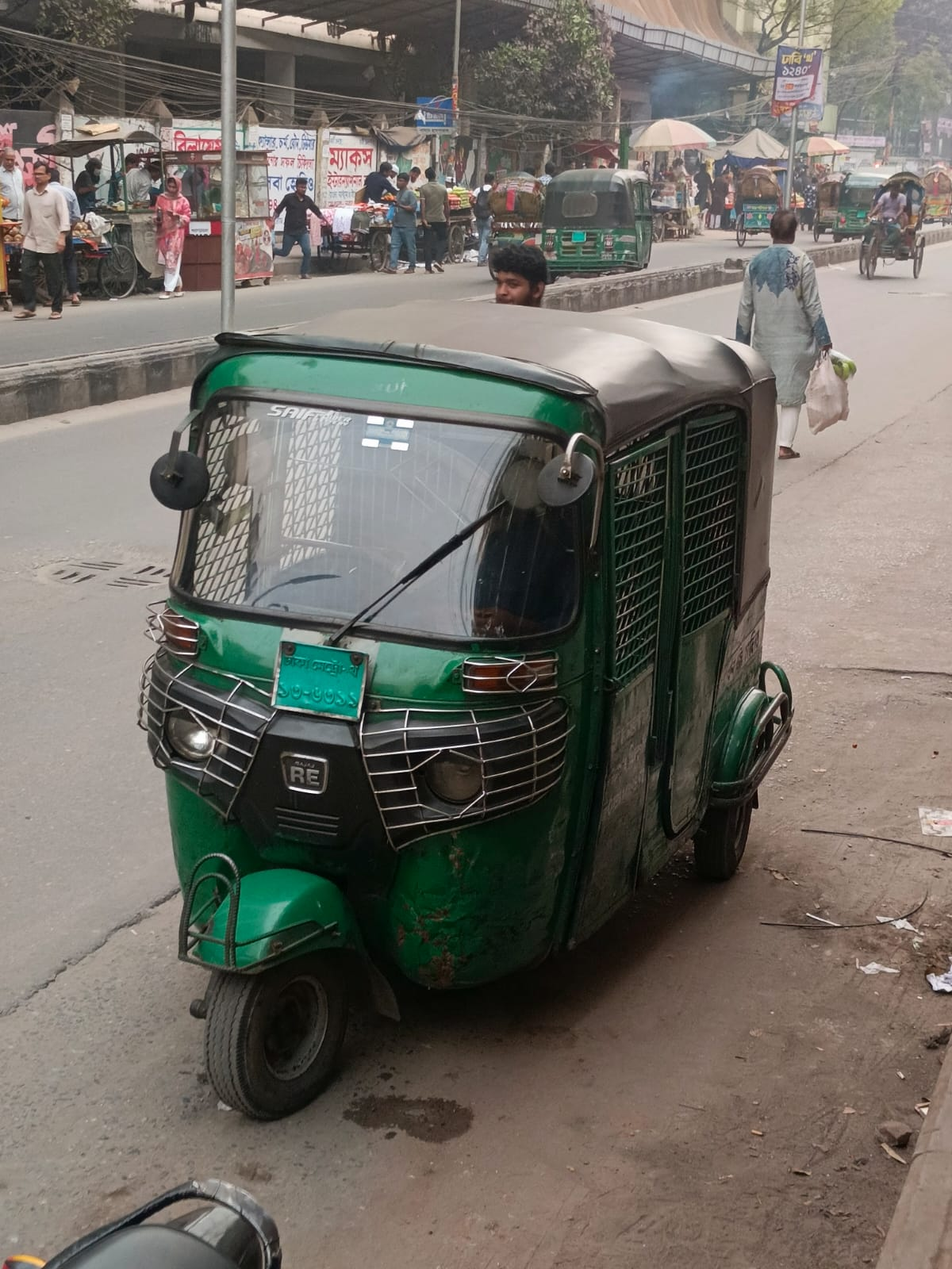Bikes: (0, 1114, 303, 1269)
auto-ricksaw: (857, 167, 933, 314), (730, 159, 800, 259)
cng: (108, 268, 846, 1139), (542, 122, 660, 314), (817, 151, 903, 253)
